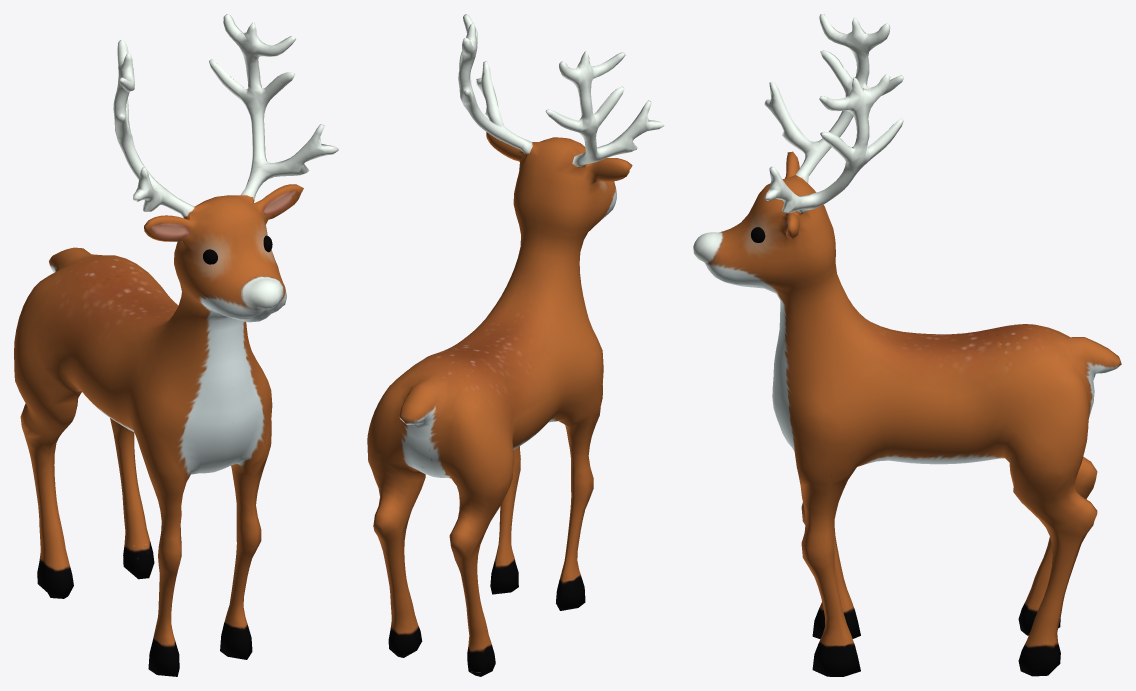
File: reindeerWhite.glb
The picture shows the model from 3 angles, left to right: view 1: azimuth 30°, elevation 25°; view 2: azimuth 150°, elevation 25°; view 3: azimuth 270°, elevation 25°; orthographic projection. The views are drawn at different scales.
Parts seen in each view (by area): view 1: reno_rtpo2.001; view 2: reno_rtpo2.001; view 3: reno_rtpo2.001.
Part boxes in pixels (x1,y1,x2,y2): reno_rtpo2.001: [14, 14, 338, 676]; reno_rtpo2.001: [367, 14, 664, 676]; reno_rtpo2.001: [693, 14, 1121, 676].
Size of the model in its own units: 3.54 by 10.15 by 6.5.
1 material, 1 textured.
